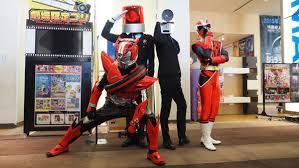no more kid: (154, 6, 178, 37)
